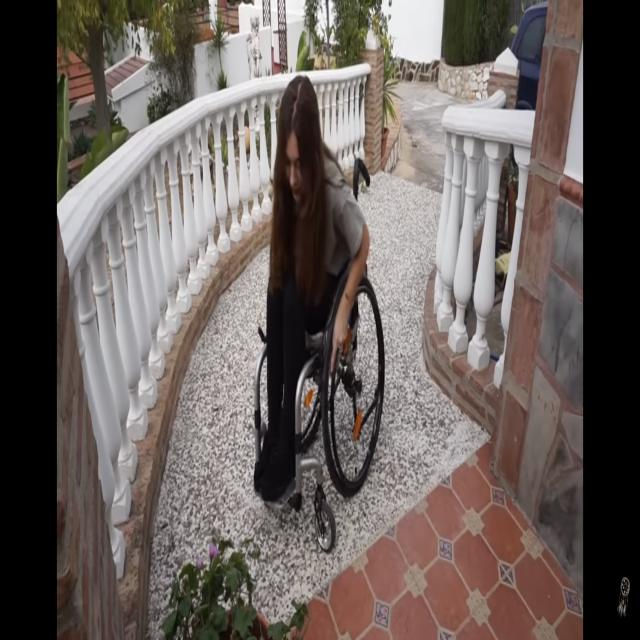wheelchairs: (252, 153, 388, 558)
